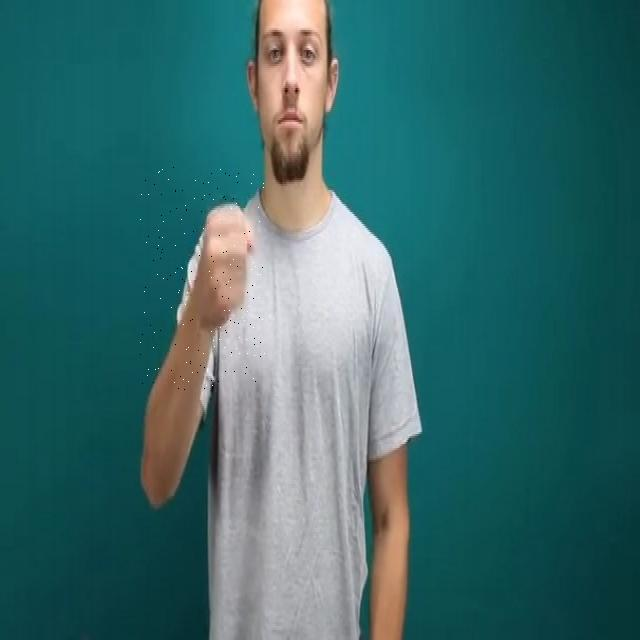milk: (140, 166, 266, 392)
